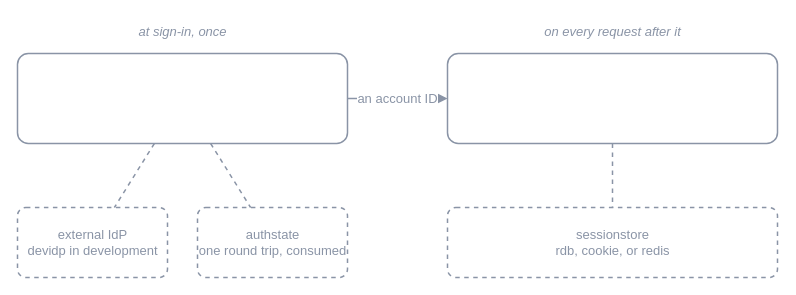
Image size: 796x295. Some labels were removed from this diagram. Here are the shapes that lost their labels. From the top down, the centre of each, then its label:
At point 182,98: "auth Decides who this is".
At point 612,98: "session Carries who it decided, and what is true of them now".
